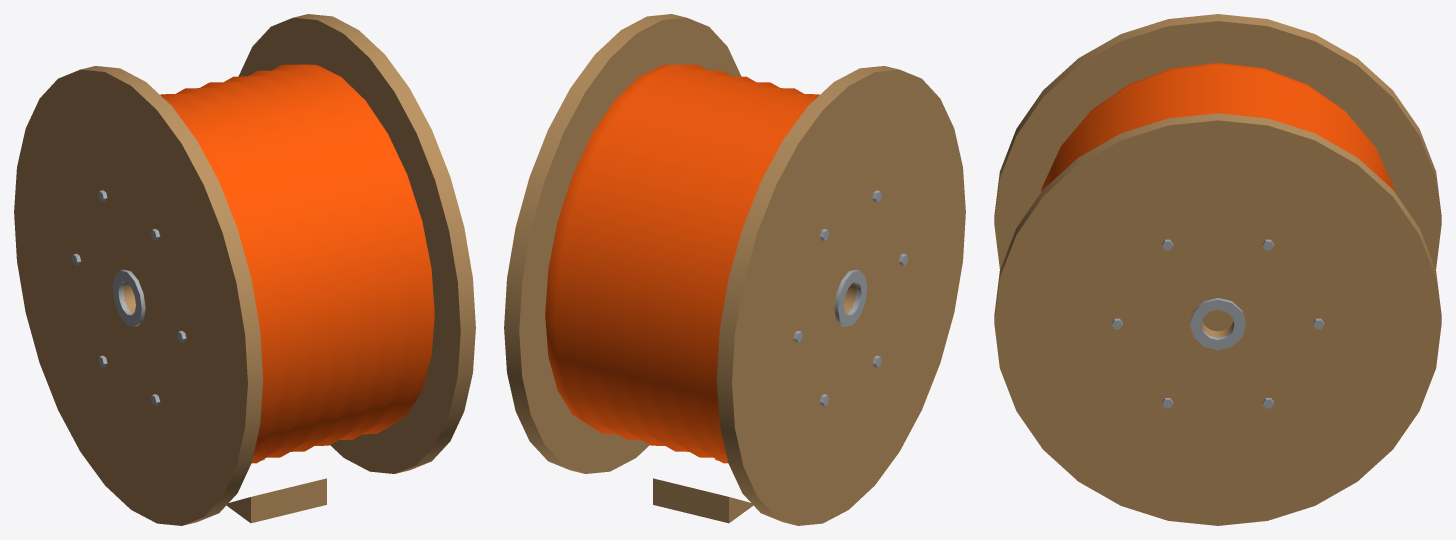
Rendered from plant.store.cable_drum_orange.glb.
3 renders of one model, left to right at view 1: azimuth 30°, elevation 25°; view 2: azimuth 150°, elevation 25°; view 3: azimuth 270°, elevation 25°, orthographic. The views are drawn at different scales.
Parts seen in each view (by area): view 1: main__softwood, main__hivis_orange, main__steel_galvanised; view 2: main__softwood, main__hivis_orange, main__steel_galvanised; view 3: main__softwood, main__hivis_orange, main__steel_galvanised.
Boxes of the visible parts, x1,y1,x2,y2 form: main__softwood: (14, 14, 475, 525); main__hivis_orange: (160, 64, 434, 463); main__steel_galvanised: (71, 190, 186, 406); main__softwood: (504, 14, 965, 525); main__hivis_orange: (545, 64, 819, 463); main__steel_galvanised: (793, 190, 908, 406); main__softwood: (994, 14, 1441, 525); main__hivis_orange: (1041, 63, 1394, 191); main__steel_galvanised: (1111, 239, 1324, 408).
Bounding box in the file's own units: 0.93 × 1.6 × 1.6.
